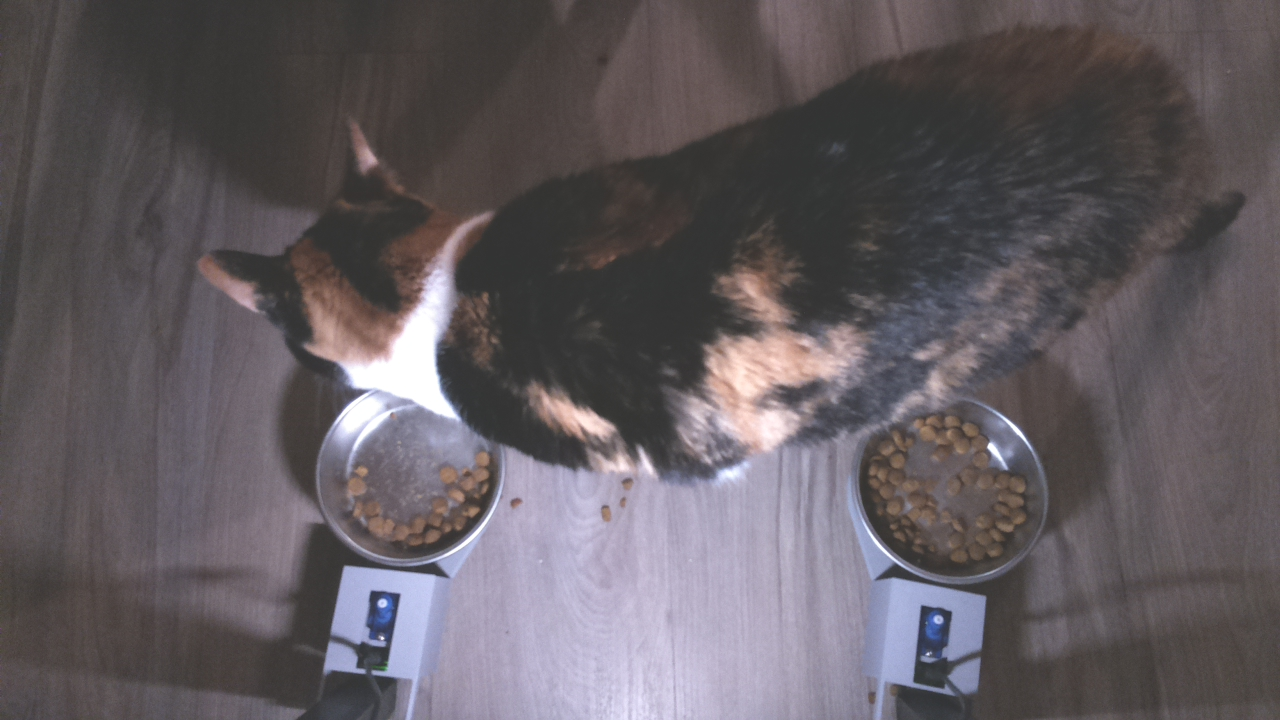bella: (194, 112, 472, 418)
open_bowl: (850, 413, 1052, 586), (316, 406, 502, 572)
